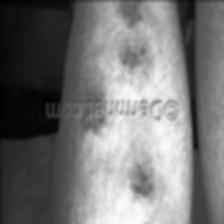Unclassified: (130, 164, 158, 200), (118, 41, 149, 66), (121, 0, 144, 25)
